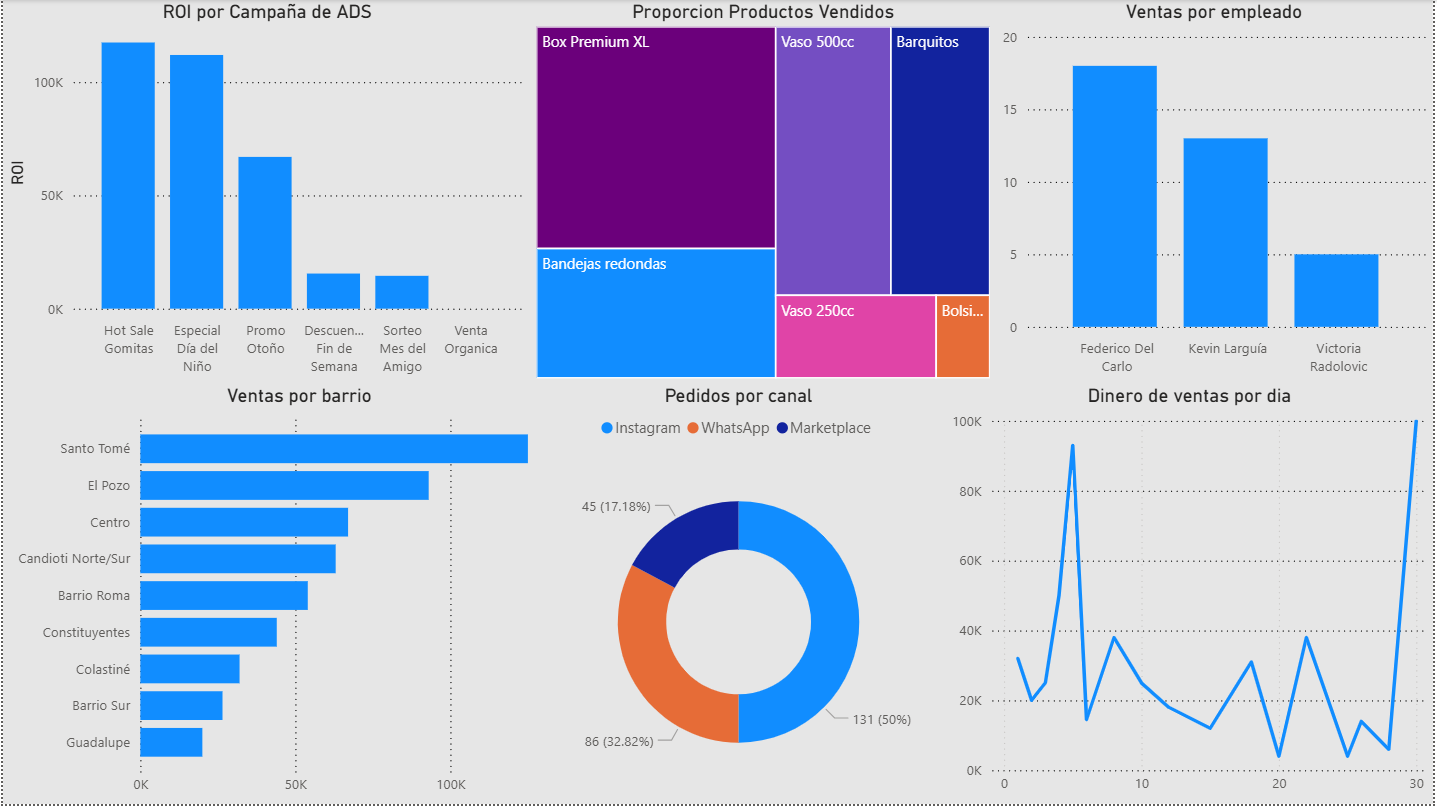

The page's visual inventory and layout, read from the dashboard file:
{"tool":"powerbi","page":{"name":"Page 1","canvas":[1280,720],"ordinal":0},"visuals":[{"type":"clusteredColumnChart","title":"ROI  por Campaña de ADS","fields":{"Category":["exportacion database excel.Campana_Ads"],"Y":["Avg(exportacion database excel.ROI_Campana_Total)"]},"box":[0,0,473.2,343.6],"z":0},{"type":"barChart","title":"Ventas por barrio","fields":{"Category":["exportacion database excel.Barrio_Santa_Fe"],"Y":["Sum(exportacion database excel.Subtotal_Venta)"]},"box":[0,343.6,530.7,376.6],"z":1000},{"type":"treemap","title":"Proporcion Productos Vendidos","fields":{"Group":["exportacion database excel.Producto"],"Values":["Sum(exportacion database excel.Cantidad)"]},"box":[473.2,0,415.8,343.6],"z":2000},{"type":"donutChart","title":"Pedidos por canal","fields":{"Category":["exportacion database excel.Canal_Captacion"],"Y":["Sum(exportacion database excel.Nro_Pedido)"]},"box":[473.2,343.6,371.7,376.6],"z":3000},{"type":"columnChart","title":"Ventas por empleado","fields":{"Category":["exportacion database excel.Atendido_Por"],"Y":["Sum(exportacion database excel.Cantidad)"]},"box":[888.4,0,392.2,343.9],"z":4000},{"type":"lineChart","title":"Dinero de ventas por dia","fields":{"Category":["exportacion database excel.Fecha.Variation.Date Hierarchy.Day"],"Y":["Sum(exportacion database excel.Subtotal_Venta)"]},"box":[844.5,343.9,436.1,376.1],"z":5000}]}

Visuals, with their boxes in screenshot pixels (x1, y1, x2, y2), scaled from the page's 1280x720 canvas onto the 1437x806 screenshot:
"ROI  por Campaña de ADS" clusteredColumnChart: [0,0,531,385]
"Ventas por barrio" barChart: [0,385,596,805]
"Proporcion Productos Vendidos" treemap: [531,0,998,385]
"Pedidos por canal" donutChart: [531,385,949,805]
"Ventas por empleado" columnChart: [997,0,1436,385]
"Dinero de ventas por dia" lineChart: [948,385,1436,805]
